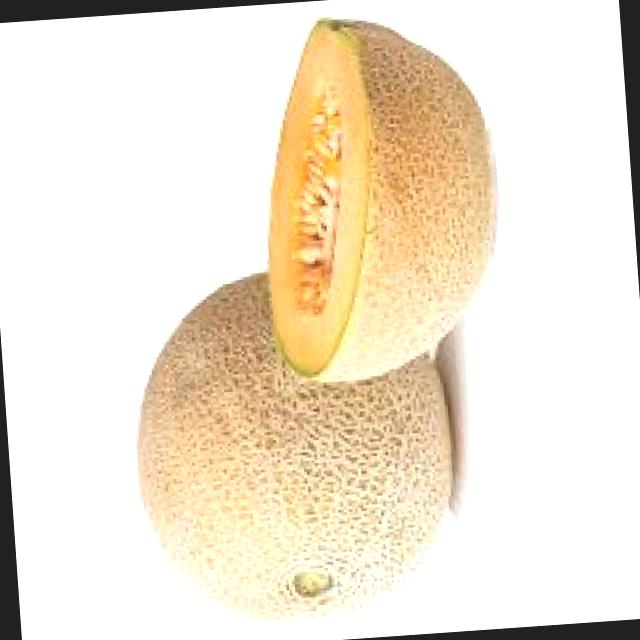cantaloupe: (121, 261, 464, 634), (248, 6, 507, 383)
